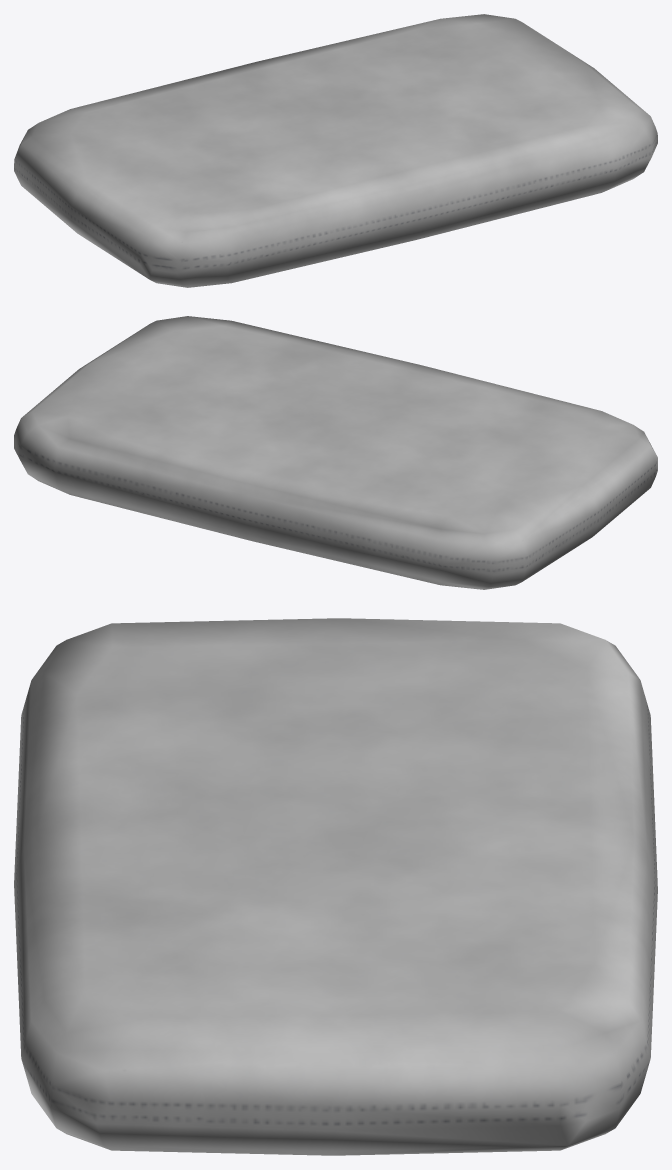
The model's file is LowerTorso_C1.fbx.
3 renders of one model, top to bottom at view 1: azimuth 30°, elevation 25°; view 2: azimuth 150°, elevation 25°; view 3: azimuth 270°, elevation 25°, orthographic. The views are drawn at different scales.
Parts seen in each view (by area): view 1: Civ_BuzoCapucha_LowerTorso_C1; view 2: Civ_BuzoCapucha_LowerTorso_C1; view 3: Civ_BuzoCapucha_LowerTorso_C1.
Boxes of the visible parts, x1,y1,x2,y2 form: Civ_BuzoCapucha_LowerTorso_C1: (14,14,657,287); Civ_BuzoCapucha_LowerTorso_C1: (14,316,657,589); Civ_BuzoCapucha_LowerTorso_C1: (14,618,657,1155).
Size of the model in its own units: 2.32 by 0.2805 by 1.36.
